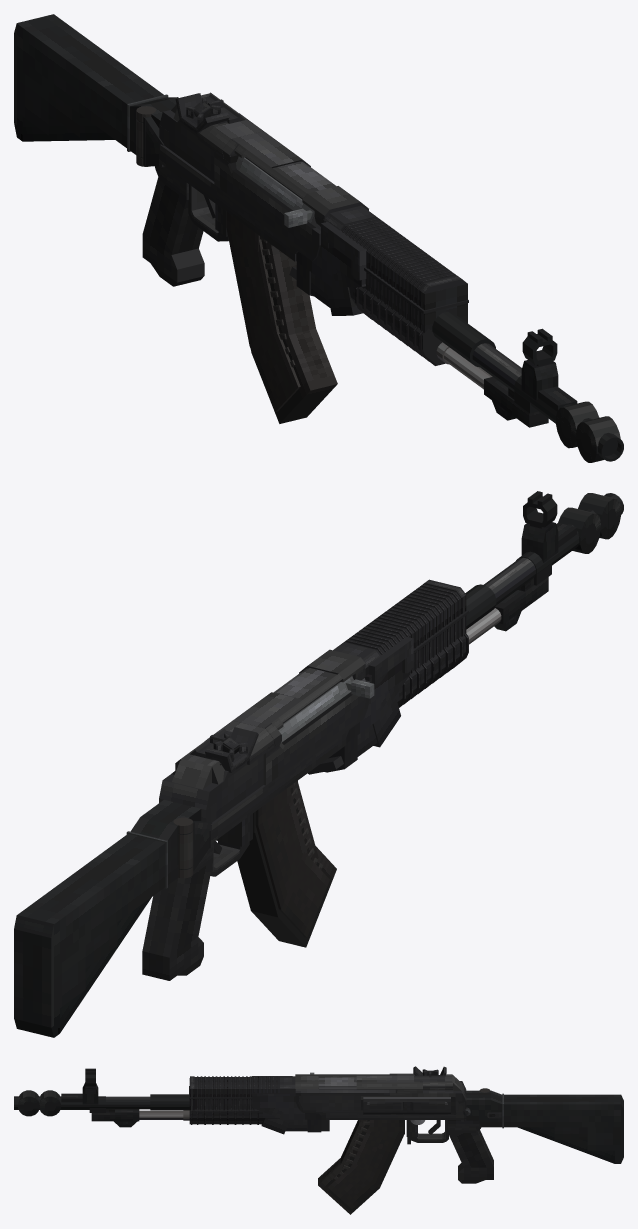
The model's file is minecraft_-_an-94.glb.
The picture shows the model from 3 angles, top to bottom: view 1: azimuth 30°, elevation 25°; view 2: azimuth 150°, elevation 25°; view 3: azimuth 270°, elevation 25°; orthographic projection. The views are drawn at different scales.
Visible parts, largest first — view 1: cube_74, cube_124, cube_122, cube_487, cube_142, cube_531, cube_532, cube_9, cube_76, cube_77, cube_365, cube_59 (+14 smaller); view 2: cube_74, cube_142, cube_79, cube_487, cube_122, cube_531, cube_532, cube_9, cube_124, cube_76, cube_77, cube_143 (+13 smaller); view 3: cube_74, cube_122, cube_532, cube_142, cube_173, cube_487, cube_77, cube_76, cube_124, cube_73, cube_531, cube_489 (+25 smaller).
Boxes of the visible parts, x1=… form: cube_74: x1=17, y1=14, x2=166, y2=154; cube_124: x1=251, y1=323, x2=337, y2=423; cube_122: x1=226, y1=228, x2=279, y2=345; cube_487: x1=214, y1=157, x2=315, y2=255; cube_142: x1=142, y1=172, x2=203, y2=254; cube_531: x1=251, y1=240, x2=315, y2=352; cube_532: x1=249, y1=321, x2=300, y2=411; cube_9: x1=169, y1=115, x2=214, y2=181; cube_76: x1=17, y1=68, x2=48, y2=134; cube_77: x1=22, y1=114, x2=114, y2=141; cube_365: x1=420, y1=283, x2=467, y2=332; cube_59: x1=236, y1=156, x2=320, y2=230; cube_74: x1=17, y1=834, x2=177, y2=968; cube_142: x1=142, y1=860, x2=213, y2=957; cube_79: x1=14, y1=929, x2=53, y2=1027; cube_487: x1=263, y1=682, x2=363, y2=785; cube_122: x1=256, y1=792, x2=308, y2=909; cube_531: x1=237, y1=781, x2=318, y2=917; cube_532: x1=279, y1=852, x2=329, y2=937; cube_9: x1=169, y1=755, x2=263, y2=819; cube_124: x1=251, y1=846, x2=336, y2=947; cube_76: x1=54, y1=945, x2=85, y2=1012; cube_77: x1=60, y1=897, x2=151, y2=1032; cube_143: x1=142, y1=937, x2=198, y2=980; cube_74: x1=491, y1=1094, x2=620, y2=1127; cube_122: x1=350, y1=1125, x2=402, y2=1184; cube_532: x1=328, y1=1163, x2=378, y2=1208; cube_142: x1=448, y1=1128, x2=493, y2=1167; cube_173: x1=194, y1=1089, x2=279, y2=1109; cube_487: x1=303, y1=1096, x2=405, y2=1110; cube_77: x1=518, y1=1127, x2=614, y2=1163; cube_76: x1=587, y1=1127, x2=620, y2=1150; cube_124: x1=318, y1=1158, x2=379, y2=1214; cube_73: x1=466, y1=1090, x2=490, y2=1120; cube_531: x1=340, y1=1120, x2=404, y2=1187; cube_489: x1=363, y1=1099, x2=450, y2=1112.
Size of the model in its own units: 0.0887 by 0.3212 by 1.26.
Materials: 9 (9 with a texture image).
